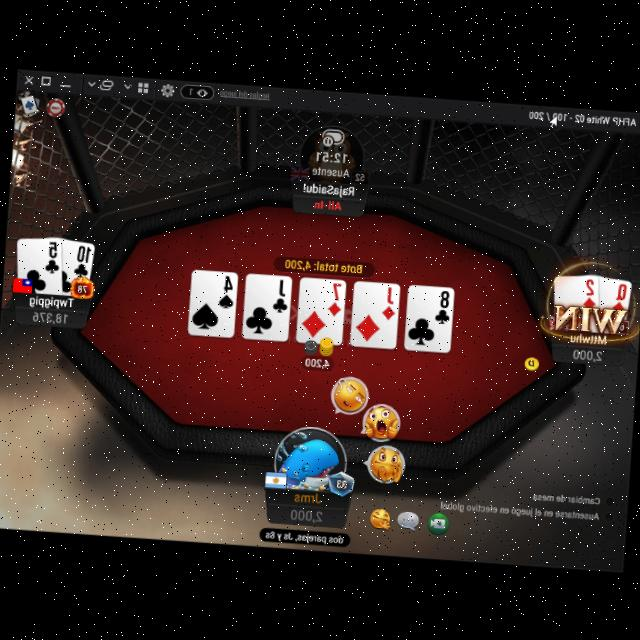2d: (581, 274, 598, 306)
4s: (216, 272, 238, 309)
5c: (42, 236, 62, 274)
7d: (325, 280, 344, 316)
8c: (432, 286, 454, 325)
Jc: (269, 275, 290, 313)
Jd: (379, 282, 398, 320)
Qd: (609, 278, 630, 312)
Tc: (69, 241, 92, 279)
all_in_symbol: (311, 196, 343, 210)
bet_text: (302, 352, 332, 368)
dealer: (521, 350, 542, 370)
pot_text: (282, 255, 364, 272)
stack_text: (288, 503, 325, 522), (30, 308, 67, 324), (571, 344, 604, 359)
